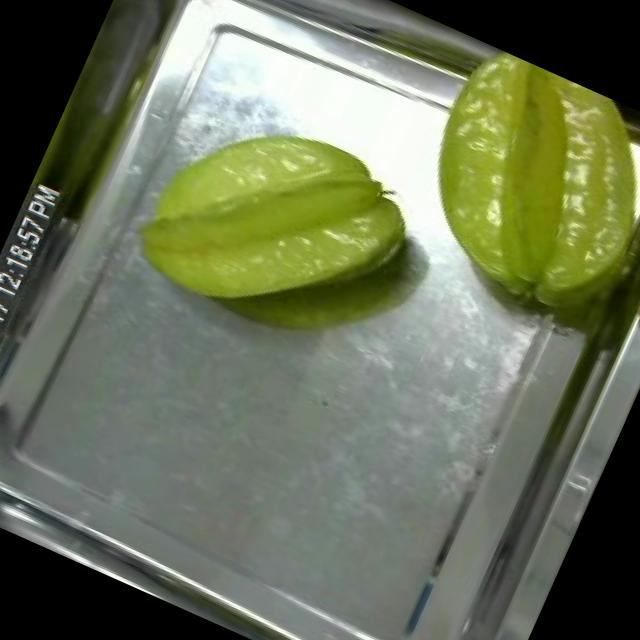fruit: (111, 75, 443, 380), (373, 35, 640, 352)
